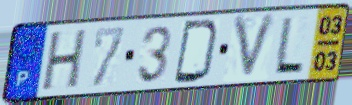3: (136, 24, 173, 84)
7: (91, 25, 127, 90)
D: (171, 18, 222, 85)
H: (39, 26, 90, 94)
L: (271, 15, 306, 75)
V: (231, 11, 280, 84)
